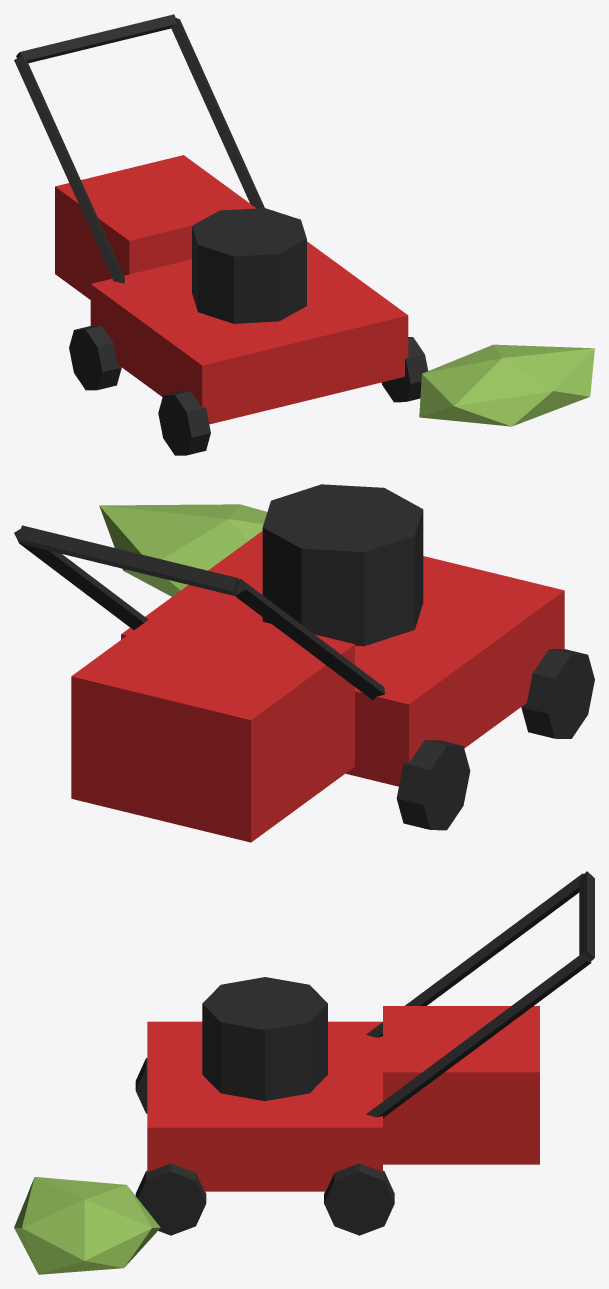
File: lawn-mower.glb
3 renders of one model, top to bottom at view 1: azimuth 30°, elevation 25°; view 2: azimuth 150°, elevation 25°; view 3: azimuth 270°, elevation 25°, orthographic. The views are drawn at different scales.
Parts seen in each view (by area): view 1: LawnMower_Body, LawnMower_Black, LawnMower_Clip; view 2: LawnMower_Body, LawnMower_Black, LawnMower_Clip; view 3: LawnMower_Body, LawnMower_Black, LawnMower_Clip.
Boxes of the visible parts, left/top/right/bottom form: LawnMower_Body: left=55, top=155, right=408, bottom=424; LawnMower_Black: left=14, top=14, right=428, bottom=455; LawnMower_Clip: left=419, top=344, right=594, bottom=426; LawnMower_Body: left=71, top=531, right=564, bottom=842; LawnMower_Black: left=14, top=484, right=594, bottom=830; LawnMower_Clip: left=99, top=504, right=267, bottom=596; LawnMower_Body: left=147, top=1006, right=539, bottom=1191; LawnMower_Black: left=135, top=871, right=594, bottom=1235; LawnMower_Clip: left=14, top=1177, right=160, bottom=1274.
Size of the model in its own units: 5.89 by 3.7 by 7.4.
